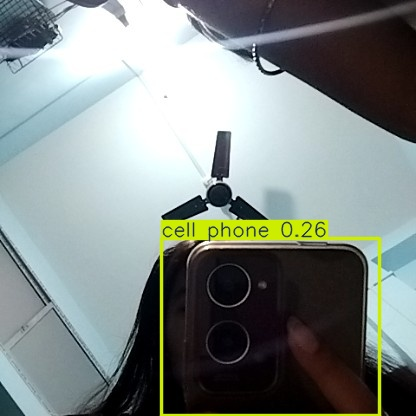phone: (182, 239, 369, 415)
